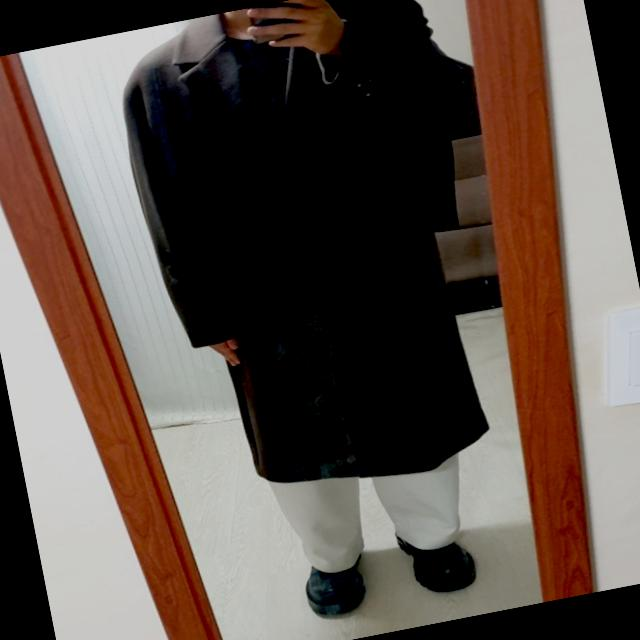coat: (110, 0, 541, 515)
cottonpants: (265, 437, 480, 579)
